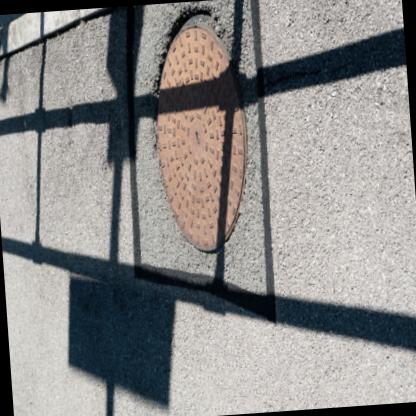manholes: (121, 0, 278, 285)
